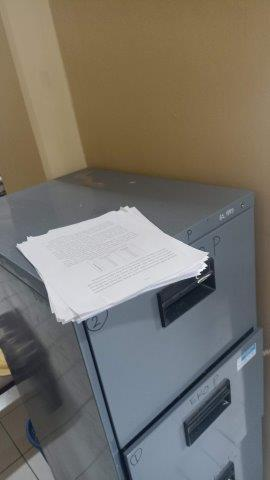kertas: (17, 204, 208, 321)
